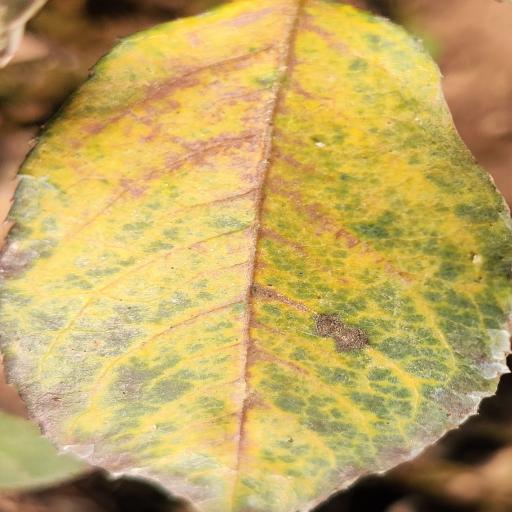red_mite: (1, 0, 512, 512)
